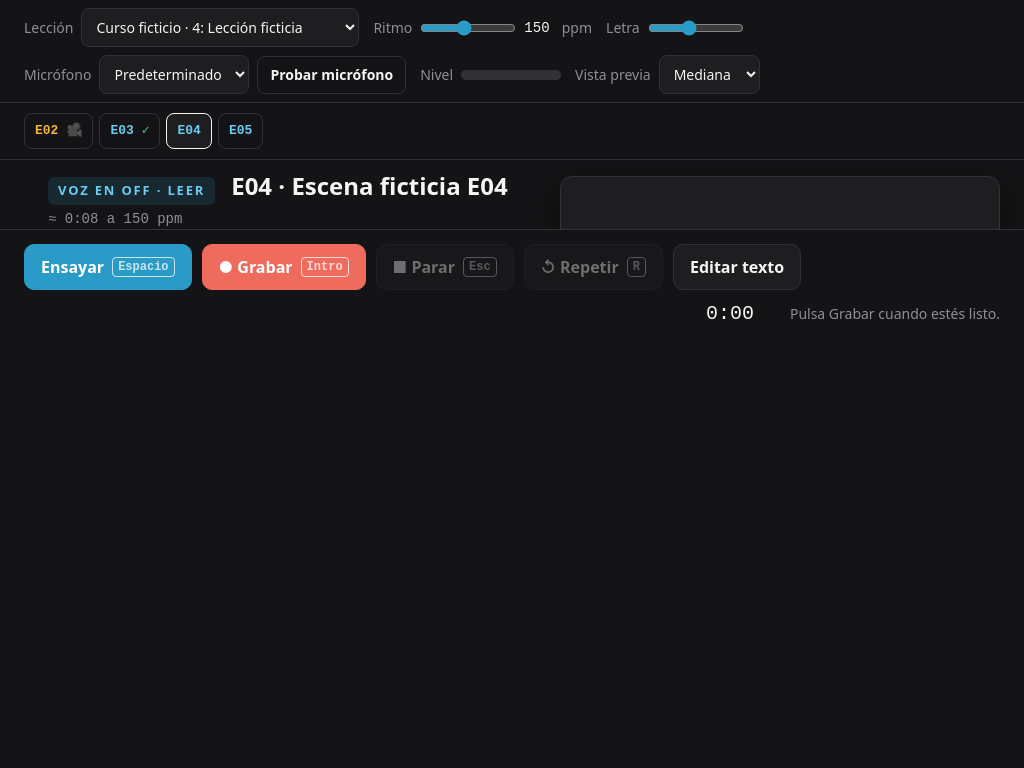
Test: Teleprompter › Grabar y Parar suben la toma en WAV y la dejan para escuchar
Later steps or results of the test are not shown.
Click the button "● Grabar Intro".
click(284, 266)  # box x1=202 y1=244 x2=366 y2=290
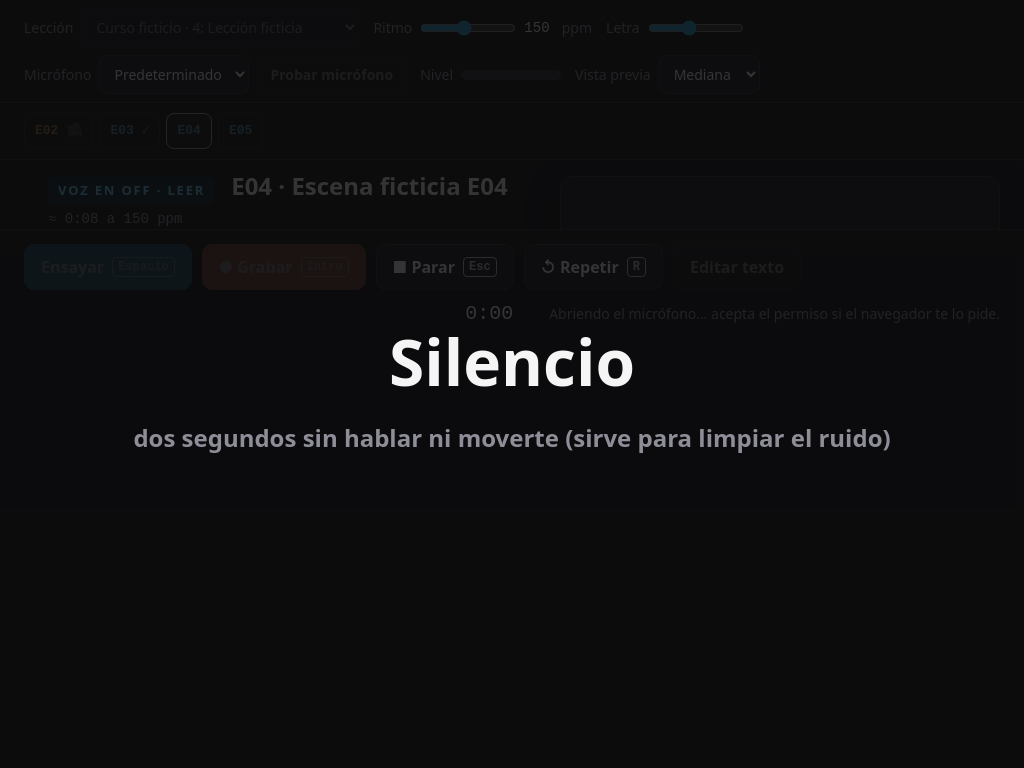
Check: the text "Silencio" is shown, box x1=389 y1=318 x2=635 y2=405
Check: the text "dos segundos sin hablar ni moverte (sirve para limpiar el ruido)" is shown, box x1=133 y1=422 x2=891 y2=454
